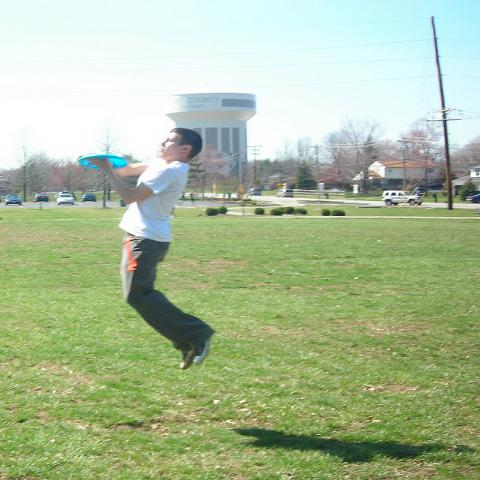car: (382, 190, 423, 205), (56, 194, 75, 205), (5, 194, 22, 205), (464, 193, 480, 204), (276, 189, 294, 198), (81, 192, 98, 201), (409, 187, 426, 195), (33, 193, 48, 202), (249, 188, 261, 195)
